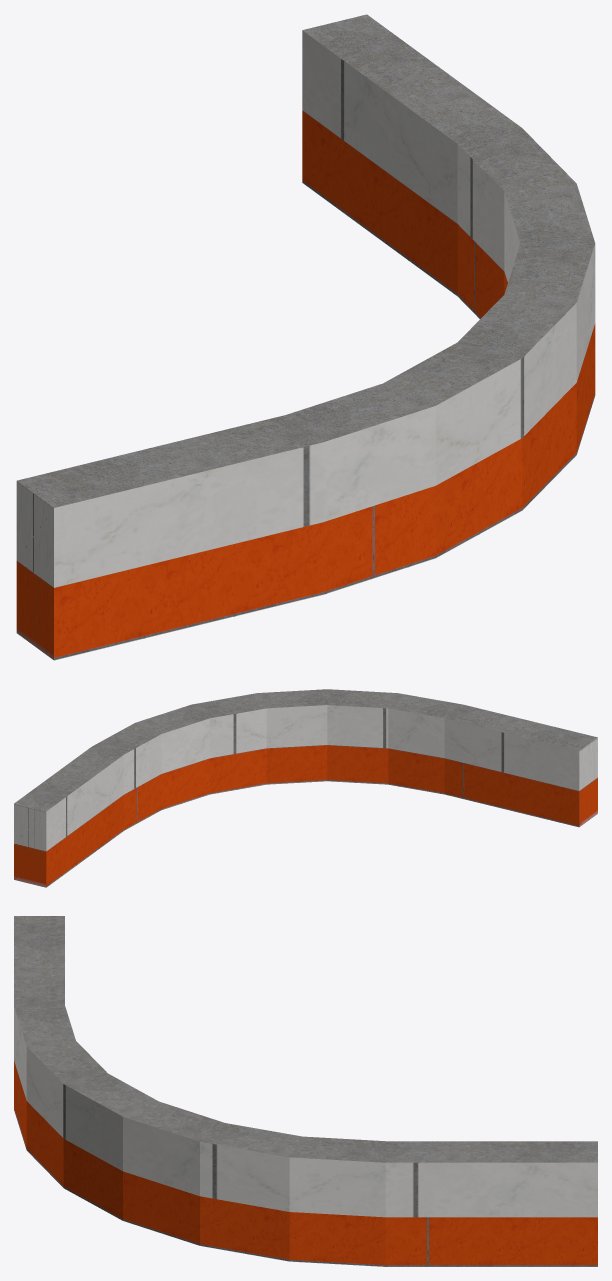
The model's file is WallCurvedUpperPart_1.fbx.
3 renders of one model, top to bottom at view 1: azimuth 30°, elevation 25°; view 2: azimuth 150°, elevation 25°; view 3: azimuth 270°, elevation 25°, orthographic. The views are drawn at different scales.
Parts seen in each view (by area): view 1: WallCurvedUpperPart_1; view 2: WallCurvedUpperPart_1; view 3: WallCurvedUpperPart_1.
Boxes of the visible parts, bbox=[...] form: WallCurvedUpperPart_1: bbox=[16, 14, 595, 660]; WallCurvedUpperPart_1: bbox=[14, 689, 597, 887]; WallCurvedUpperPart_1: bbox=[14, 916, 597, 1266].
Bounding box in the file's own units: 2 × 0.3938 × 2.
